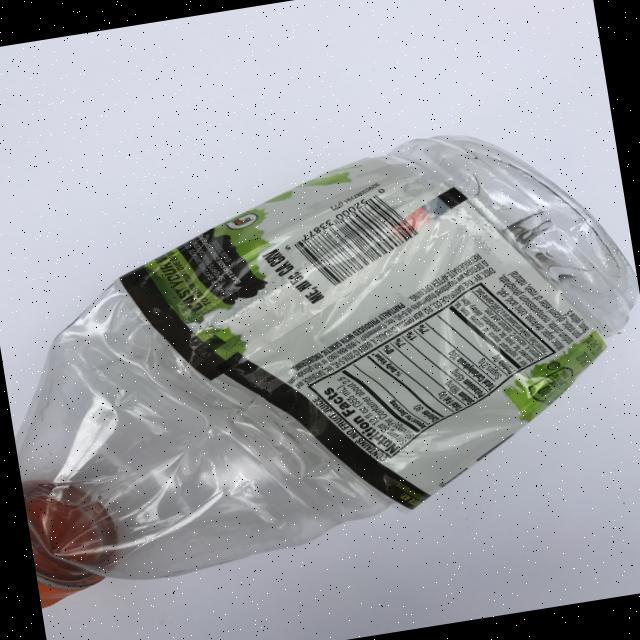plastic: (0, 106, 640, 608)
